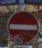No entry: (5, 6, 37, 42)
